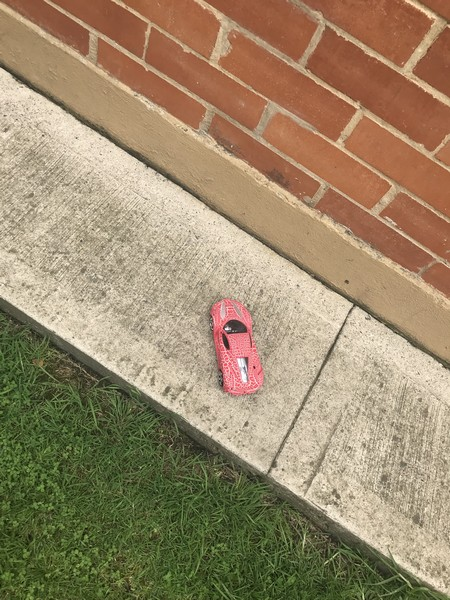RC: (206, 298, 265, 396)
